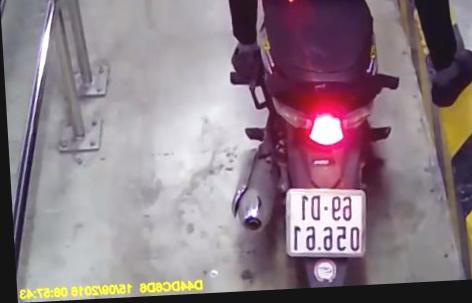License_Plate: (277, 178, 381, 266)
